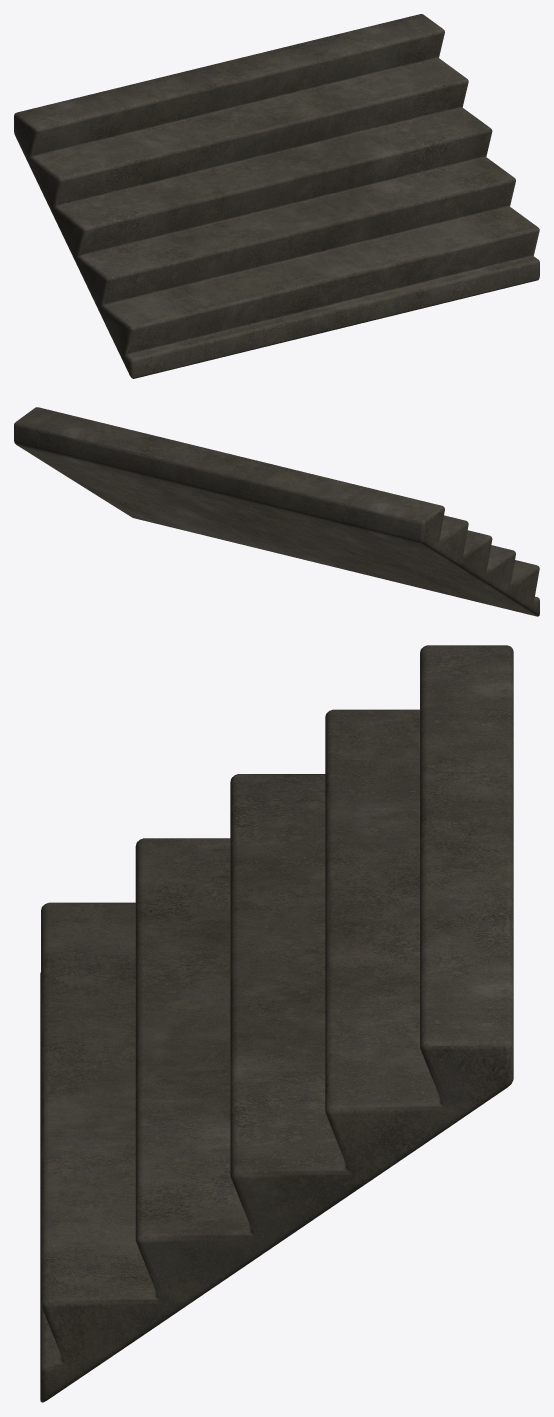
Rendered from stairs_3.obj.
3 views of the same model, one above another, from view 1: azimuth 30°, elevation 25°; view 2: azimuth 150°, elevation 25°; view 3: azimuth 270°, elevation 25° (orthographic). The views are drawn at different scales.
Visible parts, largest first — view 1: stairs_3; view 2: stairs_3; view 3: stairs_3.
Part boxes in pixels (x1,y1,x2,y2): stairs_3: (14,14,539,378); stairs_3: (14,407,539,616); stairs_3: (40,645,513,1402).
Bounding box in the file's own units: 4 × 1.69 × 2.
